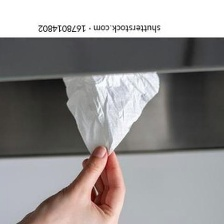tissue: (57, 66, 164, 162)
